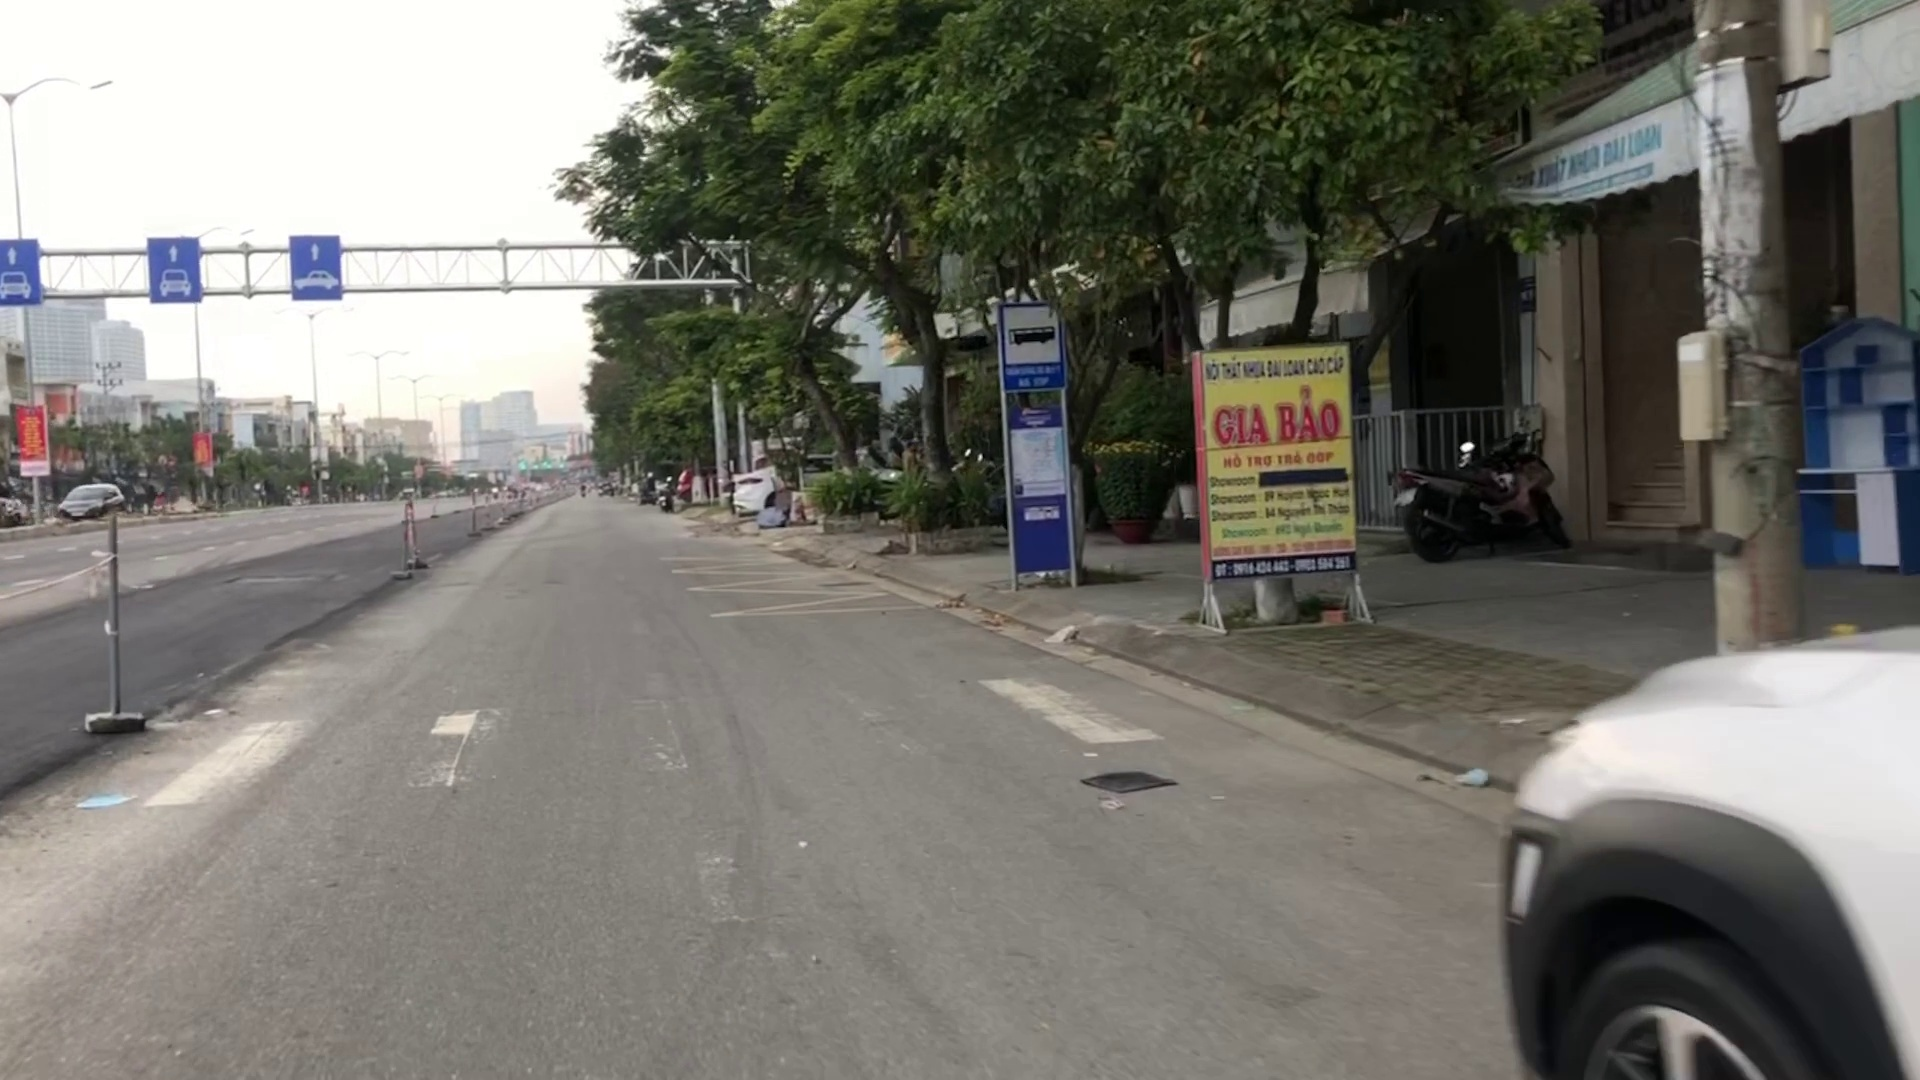Bien khac: (996, 295, 1072, 392)
